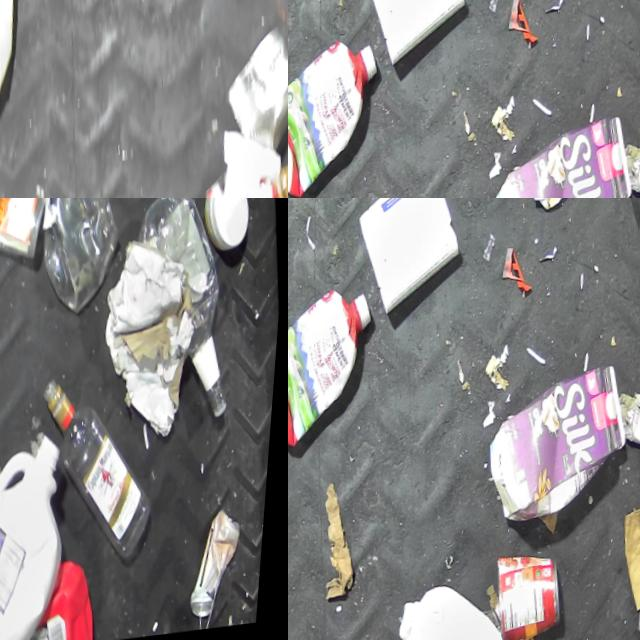can: (220, 22, 288, 162), (188, 509, 260, 623), (497, 548, 576, 640)
milk_jug: (0, 430, 87, 640), (394, 576, 534, 640), (0, 0, 41, 166)
non_white_jug: (483, 364, 640, 530), (288, 36, 394, 198), (288, 285, 388, 450), (489, 115, 640, 198), (13, 557, 110, 640), (500, 198, 590, 218)
